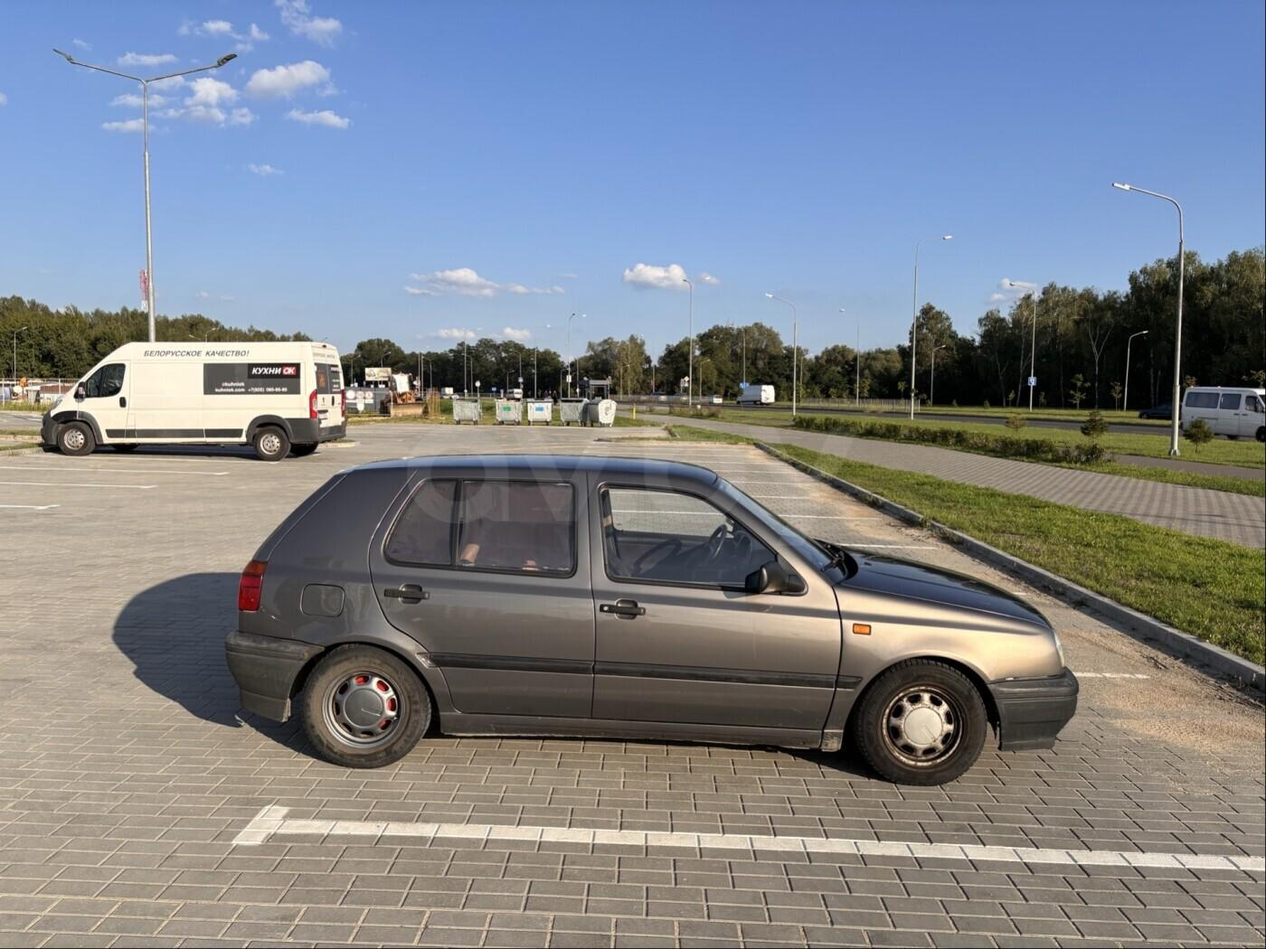Golf_1991-2000: (219, 454, 1083, 788)
